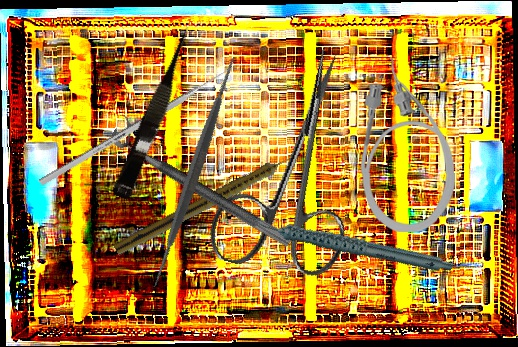Cannula: (359, 56, 456, 233)
Fixation Ring: (107, 114, 303, 249)
Handpiece: (249, 174, 455, 312), (112, 149, 300, 260)
Iris Scissors: (203, 32, 391, 290)
Micro Scissor: (111, 23, 202, 203)
Pusher: (38, 61, 240, 187)
Spatula Surgical: (75, 52, 313, 292)
